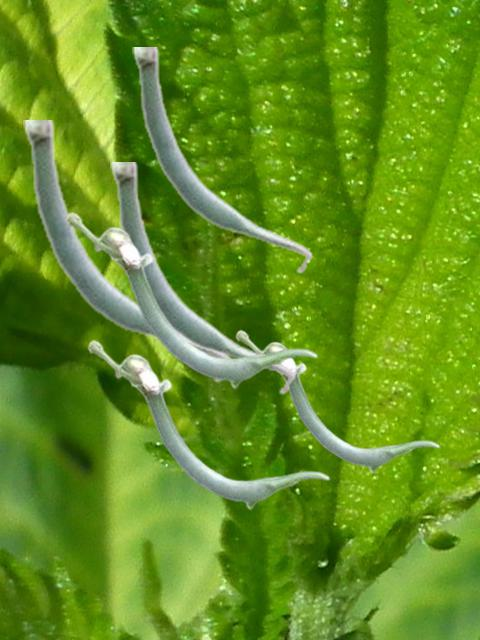french_bean: (23, 120, 225, 383), (65, 211, 317, 388), (110, 162, 295, 395), (87, 339, 329, 509), (132, 47, 312, 274), (235, 329, 439, 472)
